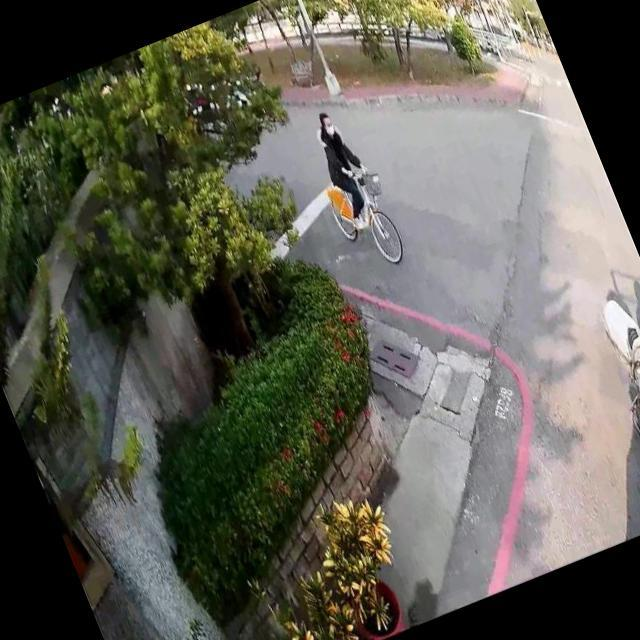person: (302, 98, 388, 232)
